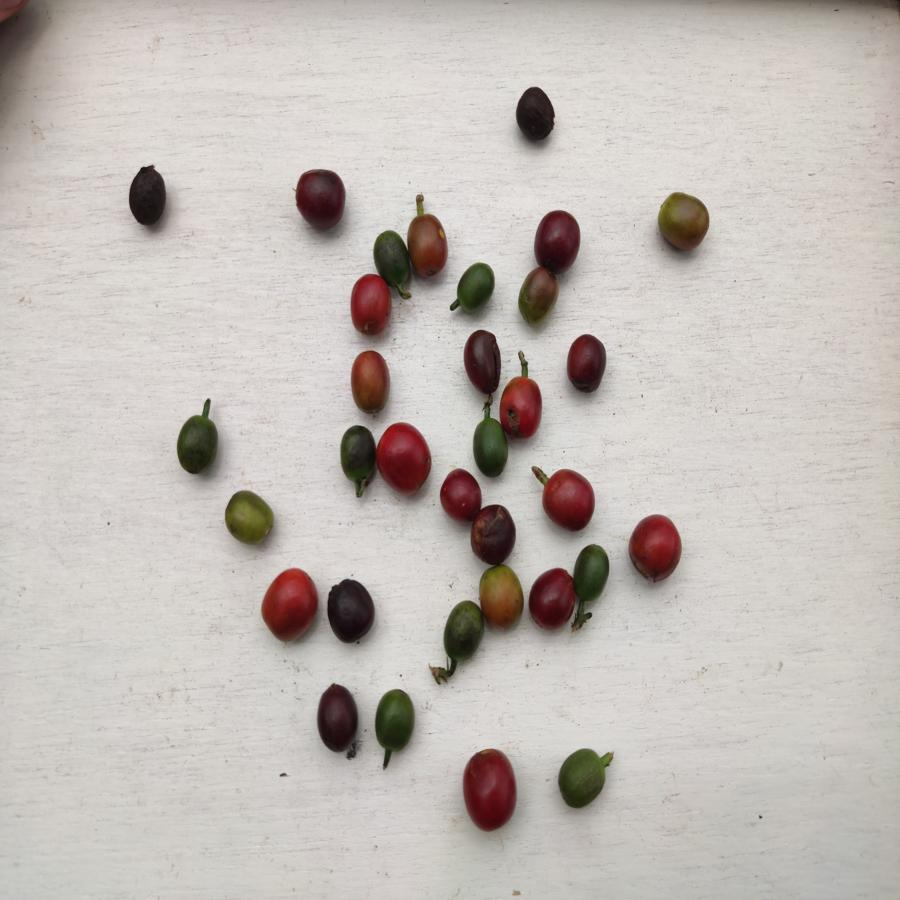Inmaduro: (556, 746, 610, 812), (375, 688, 416, 750), (442, 600, 481, 665), (177, 415, 219, 473), (337, 426, 375, 488), (573, 543, 610, 603), (472, 416, 508, 477), (456, 260, 495, 311), (373, 230, 410, 279)
Maduro: (462, 744, 518, 833), (259, 565, 320, 645), (376, 420, 434, 498), (627, 511, 685, 586), (540, 468, 598, 535), (501, 373, 546, 444), (349, 272, 392, 333), (438, 466, 481, 519)
Pinton: (655, 185, 713, 258), (407, 211, 450, 280), (479, 567, 526, 630), (224, 490, 274, 546), (350, 348, 390, 410), (519, 267, 557, 323)
Sobremaduro: (295, 167, 347, 235), (315, 682, 359, 756), (326, 580, 374, 644), (123, 167, 171, 229), (469, 505, 517, 567), (528, 567, 574, 631), (564, 332, 611, 394), (461, 328, 503, 396), (537, 210, 582, 271), (515, 86, 558, 141)
